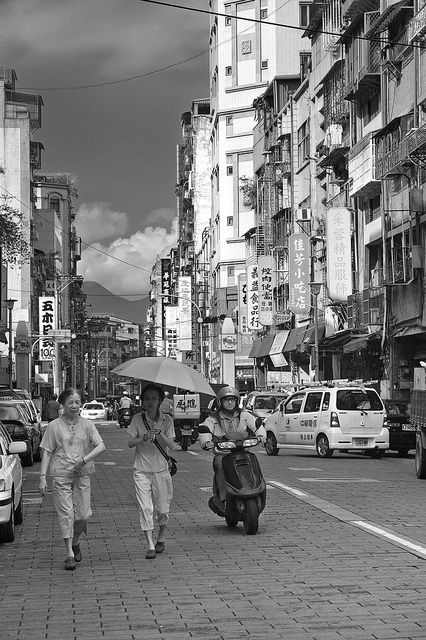non-vehicle: (198, 417, 268, 534), (175, 425, 193, 451), (118, 408, 132, 427)
